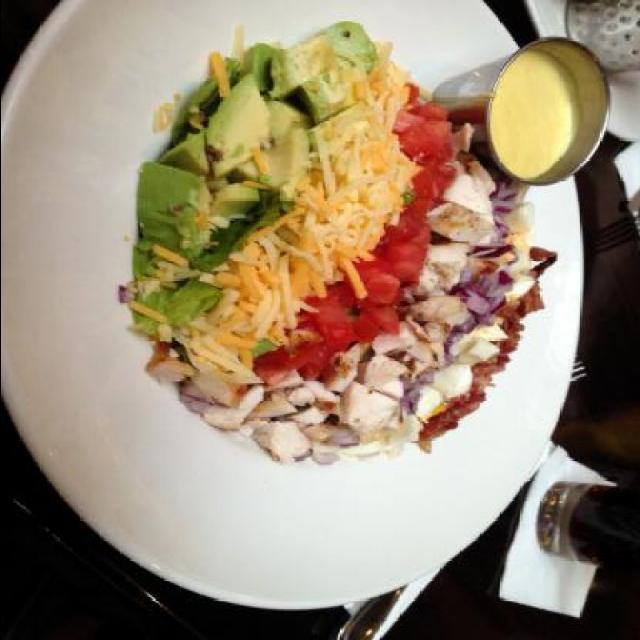Salad: (114, 13, 562, 464)
